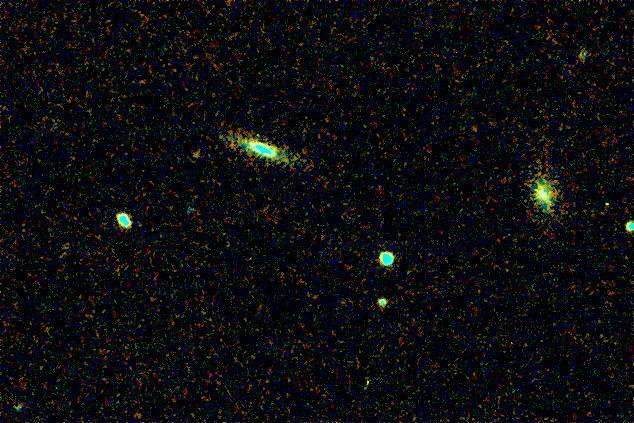star: (182, 136, 212, 166)
